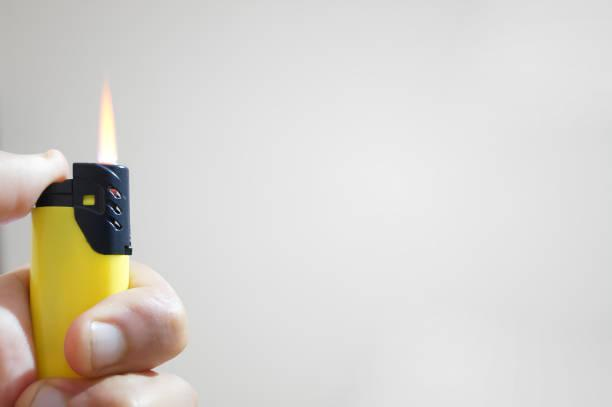Fire: (94, 76, 125, 165)
